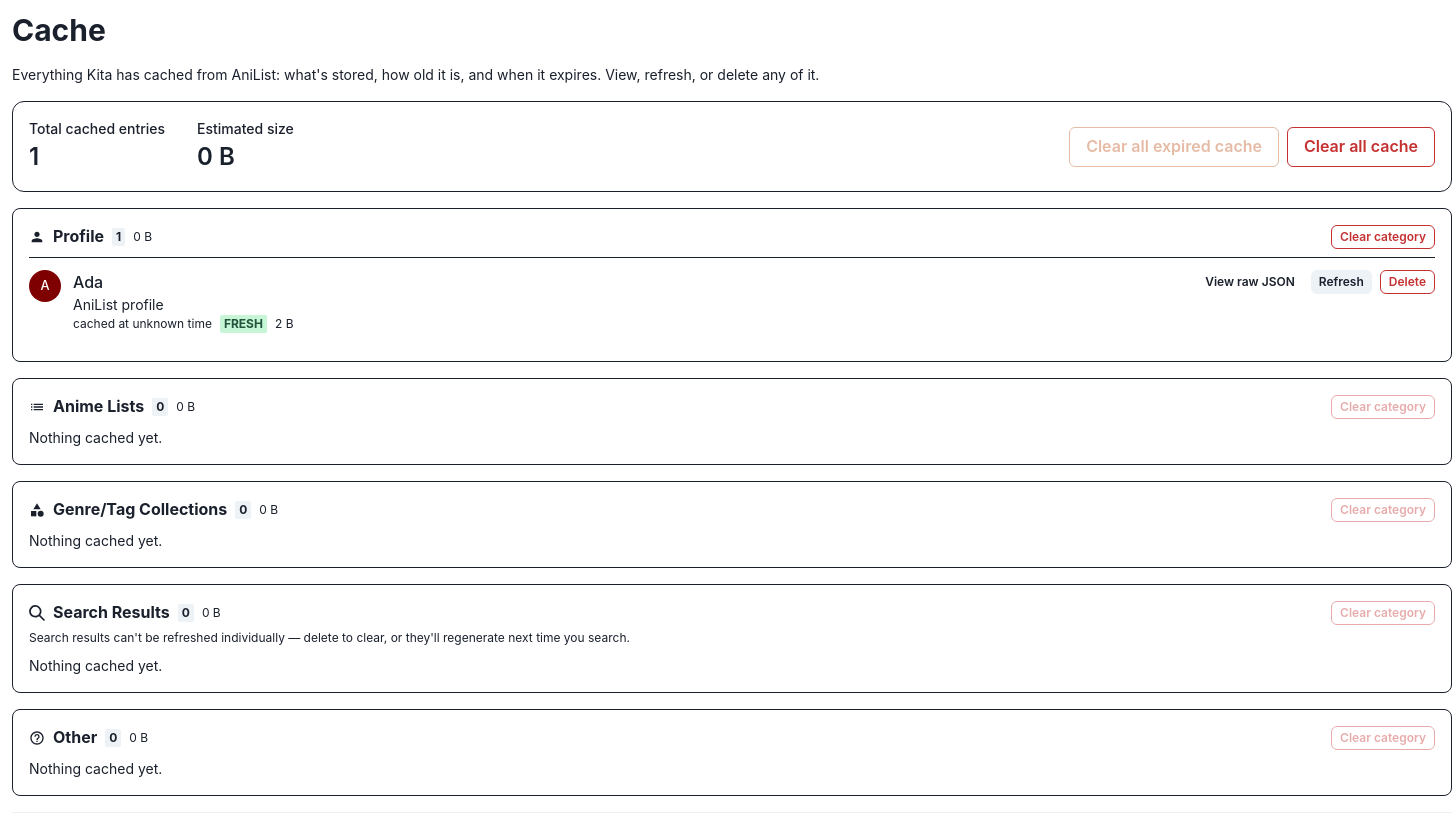
Scenario: CacheTab › refreshing the profile entry fails: shows an error toast and does not crash
The image size is (1452, 822).
Click the button with test id "cache-entry-refresh-profile" at (1341, 282), box [1311, 270, 1372, 294]
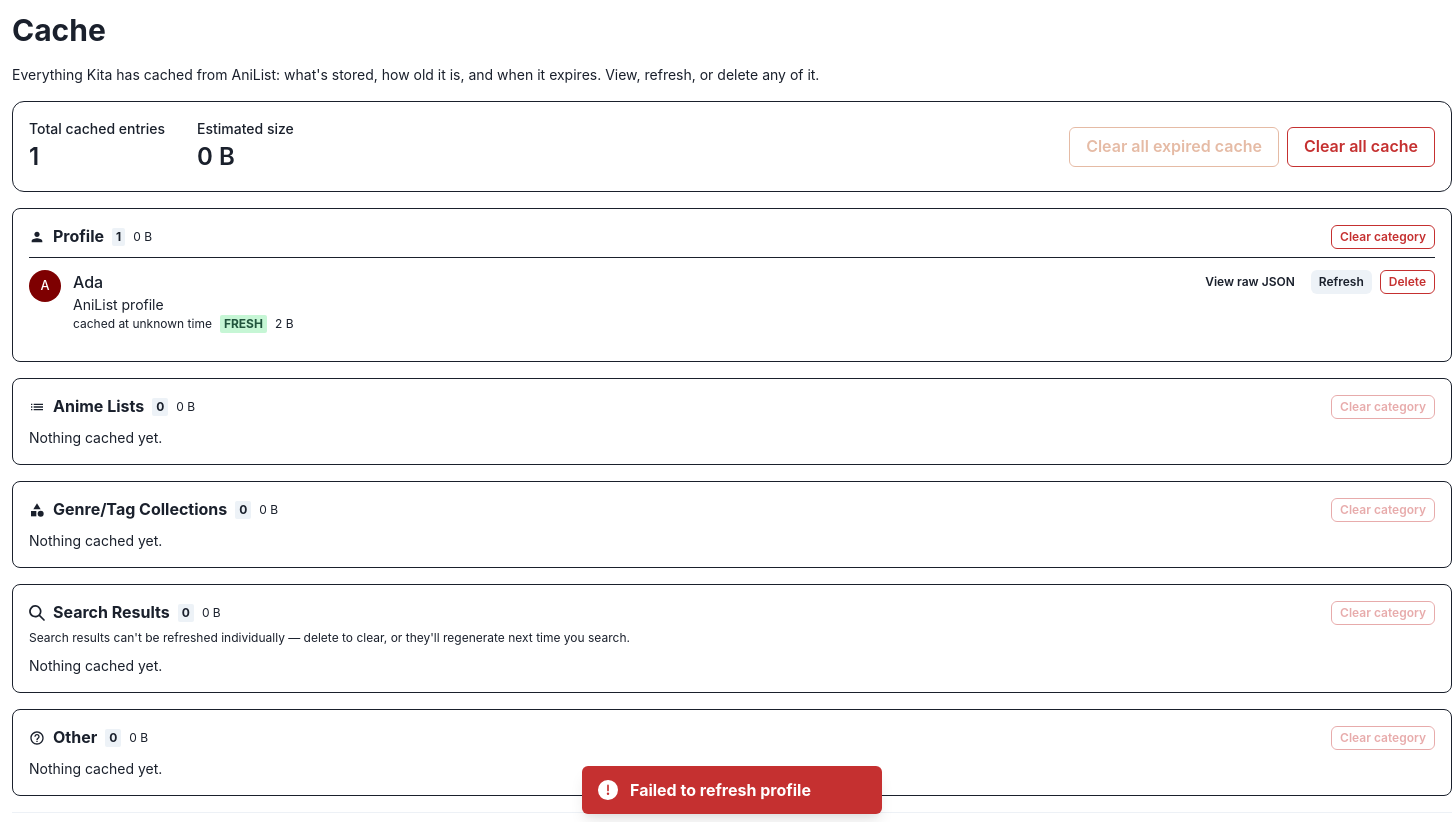
Expected: the text "Failed to refresh profile" is shown, [630, 778, 842, 802]
